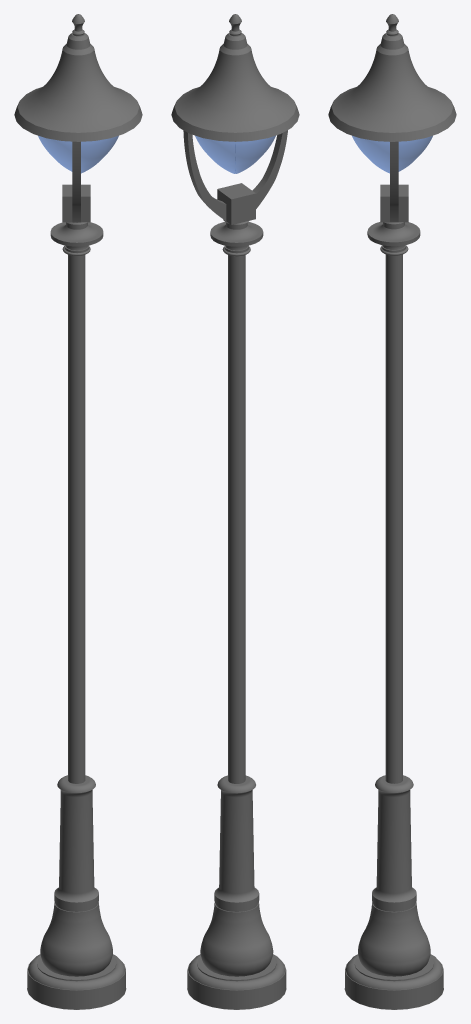
File: street_lamp.dae
3 renders of one model, left to right at view 1: azimuth 90°, elevation 25°; view 2: azimuth 210°, elevation 25°; view 3: azimuth 270°, elevation 25°, orthographic.
Visible parts, largest first — view 1: Model; view 2: Model; view 3: Model.
Boxes of the visible parts, bbox=[...] form: Model: bbox=[14, 14, 142, 1009]; Model: bbox=[171, 14, 299, 1009]; Model: bbox=[328, 14, 456, 1009].
Size of the model in its own units: 21.92 by 21.92 by 184.
